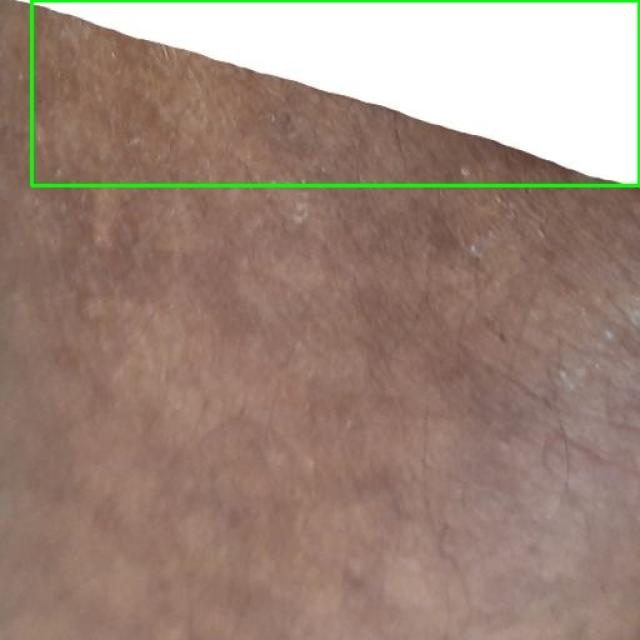Contact Dermatitis: (31, 0, 639, 185)
